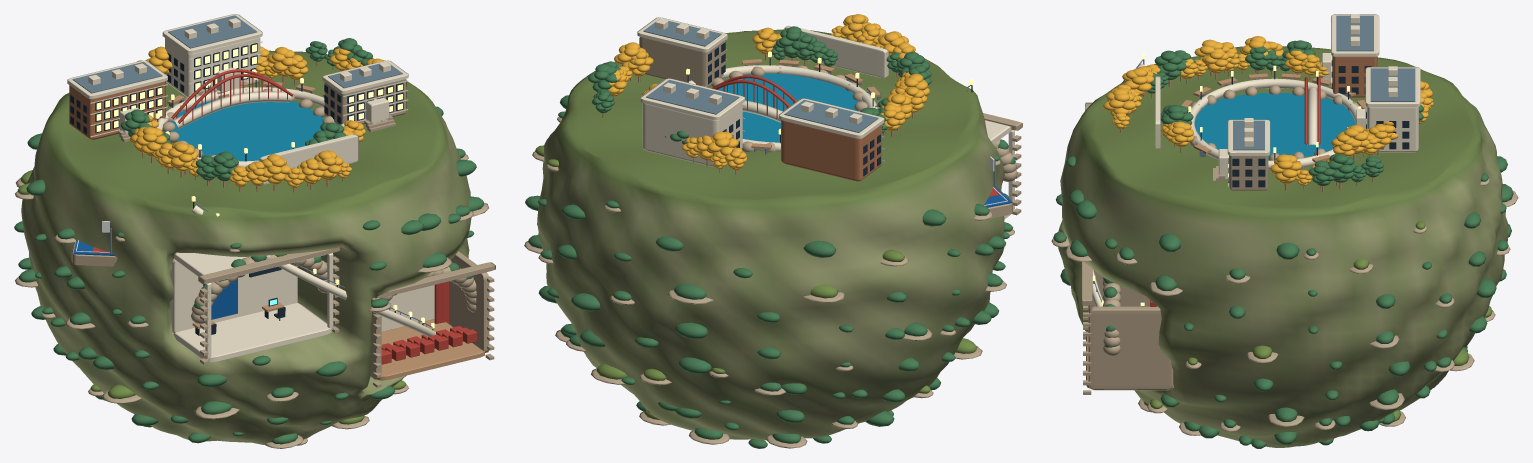
Rendered from university.glb.
The picture shows the model from 3 angles, left to right: view 1: azimuth 30°, elevation 25°; view 2: azimuth 150°, elevation 25°; view 3: azimuth 270°, elevation 25°; orthographic projection. The views are drawn at different scales.
Visible parts, largest first — view 1: campus_terrain, ivory, limestone, foliage, ginkgo, water, red_bridge, graphite, steel, wood, warm_lamps, campus_brick (+2 smaller); view 2: campus_terrain, foliage, ivory, limestone, ginkgo, campus_brick, water, steel, campus_lawn, red_bridge, graphite, wood; view 3: campus_terrain, limestone, foliage, ivory, ginkgo, water, steel, graphite, wood, campus_brick, campus_lawn, red_bridge.
Boxes of the visible parts, x1=… form: campus_terrain: x1=21, y1=50, x2=471, y2=444; ivory: x1=67, y1=14, x2=436, y2=362; limestone: x1=15, y1=79, x2=495, y2=448; foliage: x1=14, y1=38, x2=484, y2=444; ginkgo: x1=129, y1=46, x2=384, y2=187; water: x1=169, y1=99, x2=323, y2=161; red_bridge: x1=92, y1=69, x2=476, y2=364; graphite: x1=70, y1=43, x2=433, y2=335; steel: x1=72, y1=15, x2=432, y2=327; wood: x1=142, y1=61, x2=484, y2=380; warm_lamps: x1=96, y1=44, x2=434, y2=328; campus_brick: x1=69, y1=81, x2=165, y2=139; campus_terrain: x1=537, y1=29, x2=1004, y2=440; foliage: x1=525, y1=26, x2=1015, y2=448; ivory: x1=637, y1=17, x2=1014, y2=219; limestone: x1=524, y1=37, x2=1022, y2=448; ginkgo: x1=607, y1=14, x2=930, y2=169; campus_brick: x1=781, y1=120, x2=881, y2=181; water: x1=718, y1=73, x2=860, y2=149; steel: x1=643, y1=19, x2=995, y2=187; campus_lawn: x1=535, y1=145, x2=977, y2=419; red_bridge: x1=712, y1=75, x2=1001, y2=196; graphite: x1=639, y1=38, x2=972, y2=176; wood: x1=602, y1=54, x2=914, y2=174; campus_terrain: x1=1058, y1=46, x2=1508, y2=447; limestone: x1=1051, y1=76, x2=1518, y2=435; foliage: x1=1053, y1=40, x2=1513, y2=448; ivory: x1=1092, y1=14, x2=1420, y2=306; ginkgo: x1=1103, y1=36, x2=1433, y2=185; water: x1=1194, y1=93, x2=1355, y2=158; steel: x1=1092, y1=15, x2=1415, y2=302; graphite: x1=1093, y1=56, x2=1409, y2=283; wood: x1=1086, y1=70, x2=1379, y2=388; campus_brick: x1=1332, y1=56, x2=1377, y2=97; campus_lawn: x1=1143, y1=221, x2=1492, y2=421; red_bridge: x1=1150, y1=77, x2=1320, y2=306.
Bounding box in the file's own units: 20.02 × 16.71 × 19.79.
